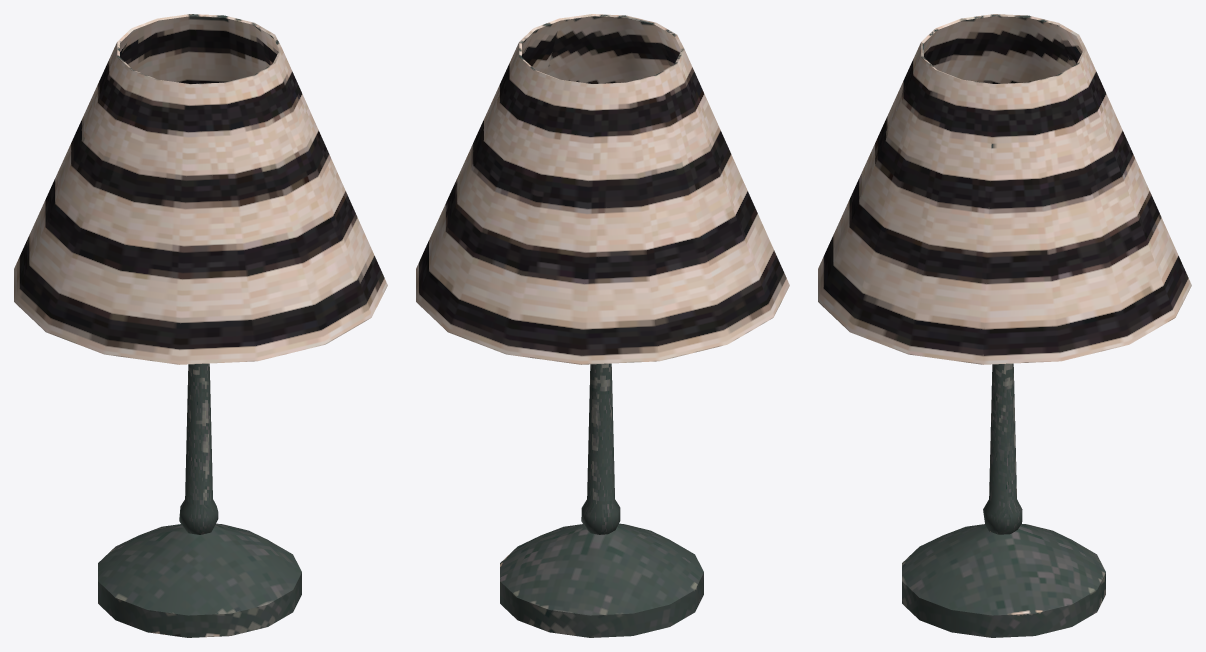
File: NightLamp.glb
The picture shows the model from 3 angles, left to right: view 1: azimuth 30°, elevation 25°; view 2: azimuth 150°, elevation 25°; view 3: azimuth 270°, elevation 25°; orthographic projection.
Visible parts, largest first — view 1: NightLamp; view 2: NightLamp; view 3: NightLamp.
Boxes of the visible parts, x1,y1,x2,y2 form: NightLamp: (14, 14, 387, 637); NightLamp: (416, 14, 789, 637); NightLamp: (818, 14, 1191, 637).
Size of the model in its own units: 0.2462 by 0.3943 by 0.2449.
Materials: 1 (1 with a texture image).
